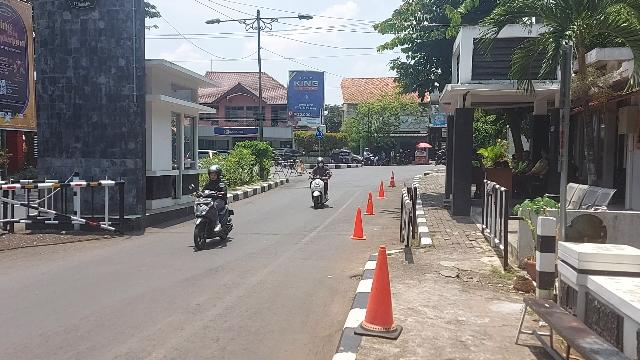helm: (210, 167, 223, 182), (317, 159, 325, 168)
motor: (190, 191, 235, 252), (309, 177, 330, 210)
